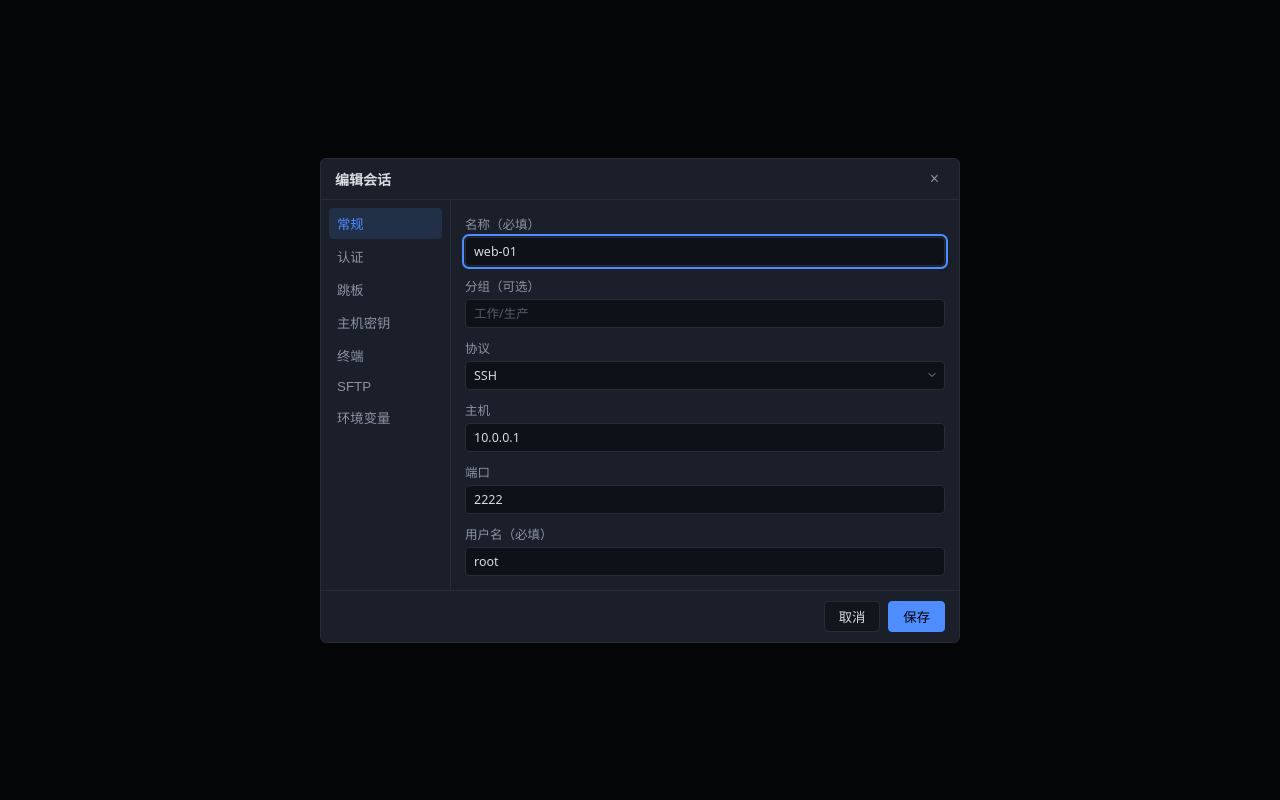
ProfileDialog · 钉扎指纹 › 信任库无记录 → 提示先连一次，不报错、不发 profile_save
The width and height of the screenshot is (1280, 800).
Click the tab "主机密钥" at (386, 322), box [329,306,442,338]
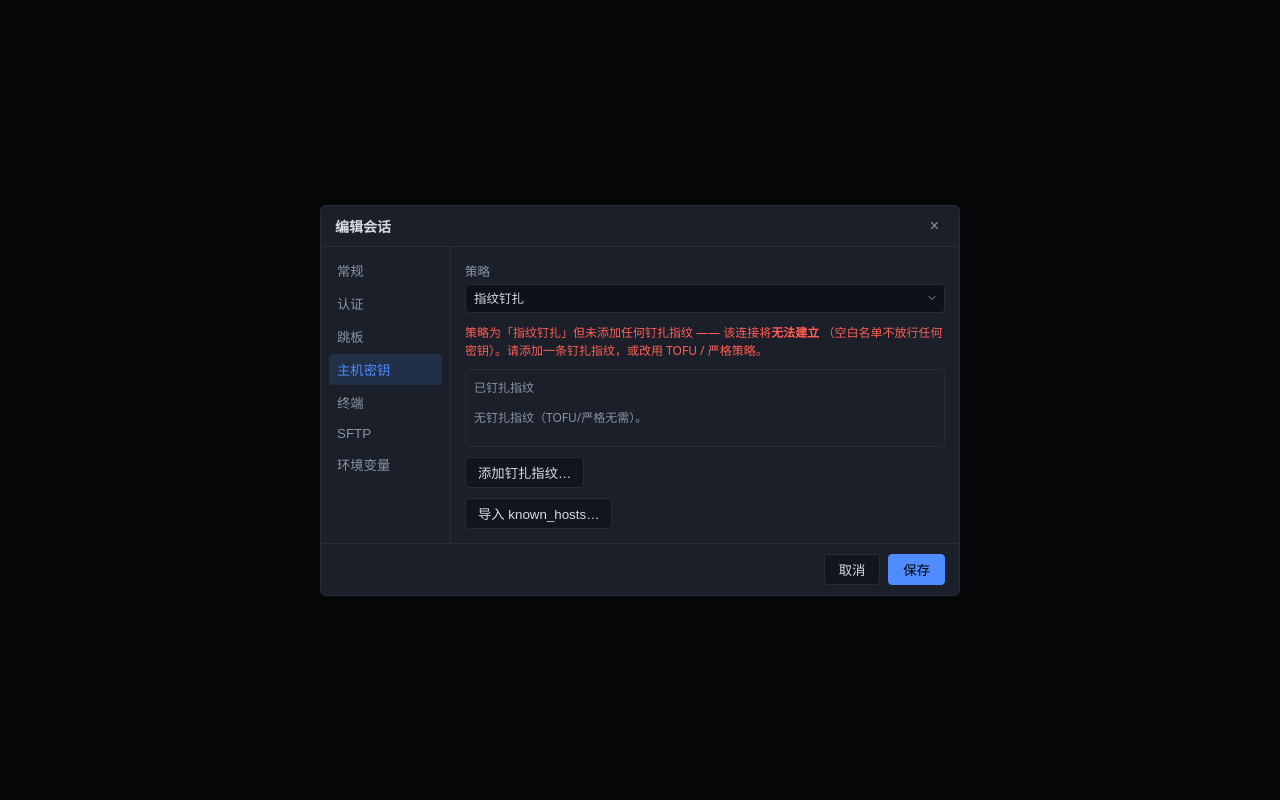
Click the button with test id "pf-add-pin" at (525, 472), box [465,456,584,488]
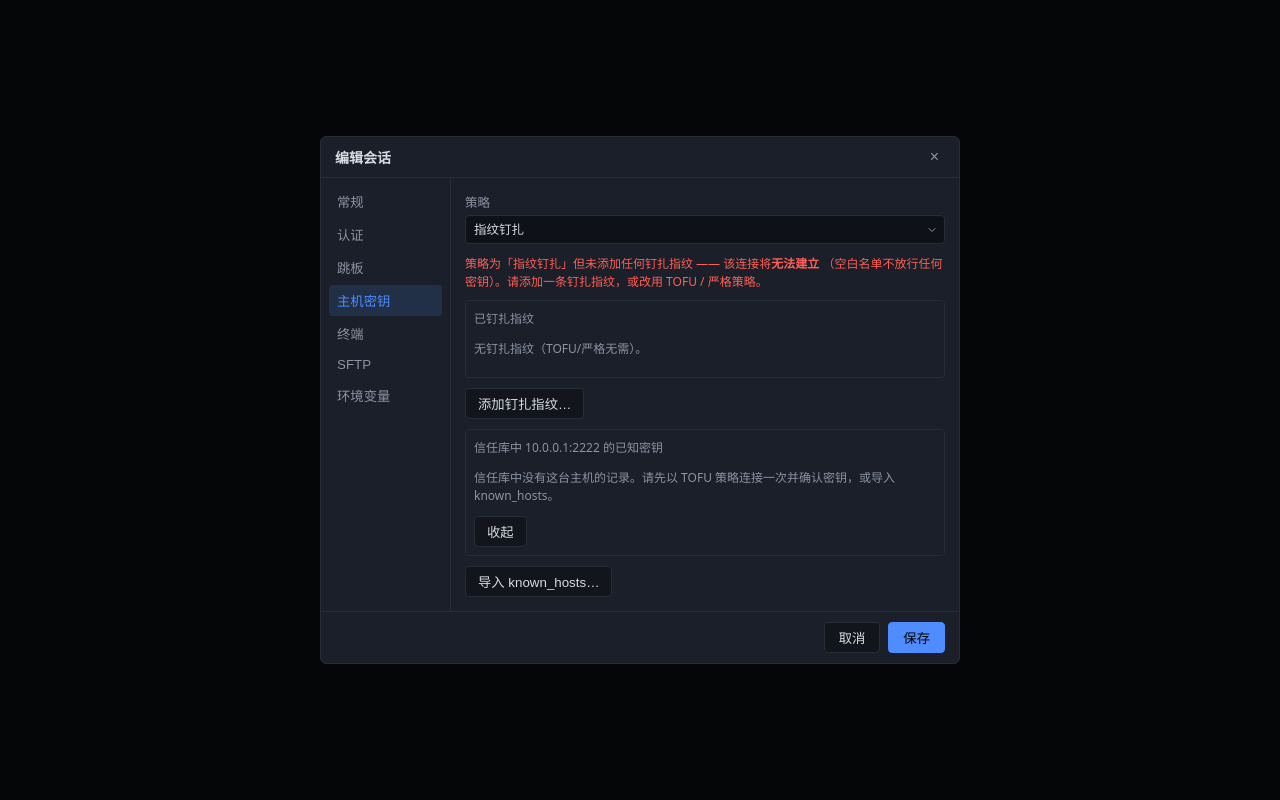
Expected: the element with test id "pf-pin-picker" shows "先以 TOFU 策略连接一次", [474,469,895,504]
